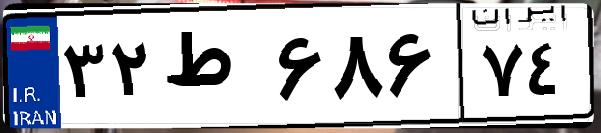2: (110, 28, 158, 98)
3: (57, 26, 110, 100)
4: (525, 38, 570, 115)
6: (270, 28, 330, 110), (385, 28, 445, 110)
7: (475, 38, 525, 113)
8: (330, 28, 385, 110)
ط: (158, 20, 270, 120)
